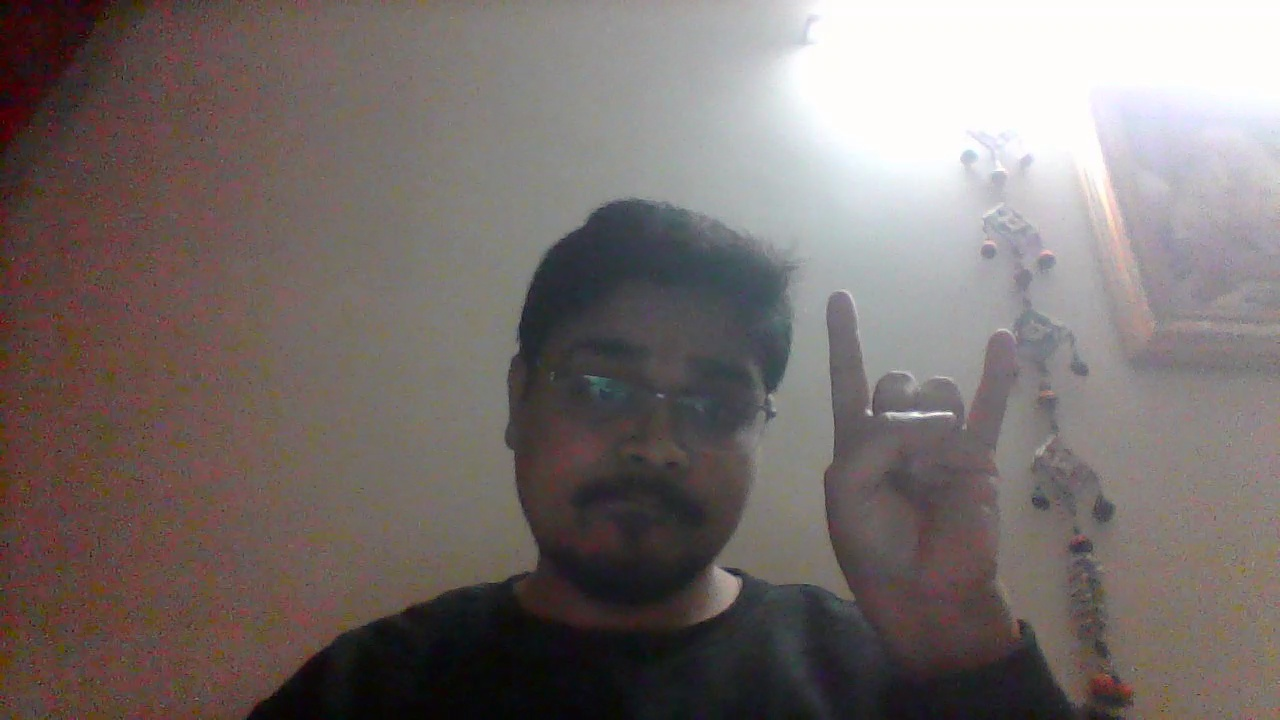ILoveYou: (817, 286, 1020, 632)
